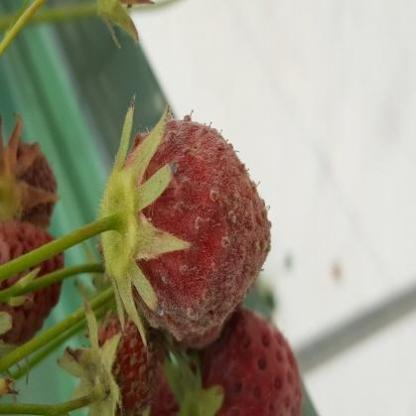Strawberry_Powdery_Mildew_Fruit: (99, 92, 272, 350), (83, 315, 168, 415)
